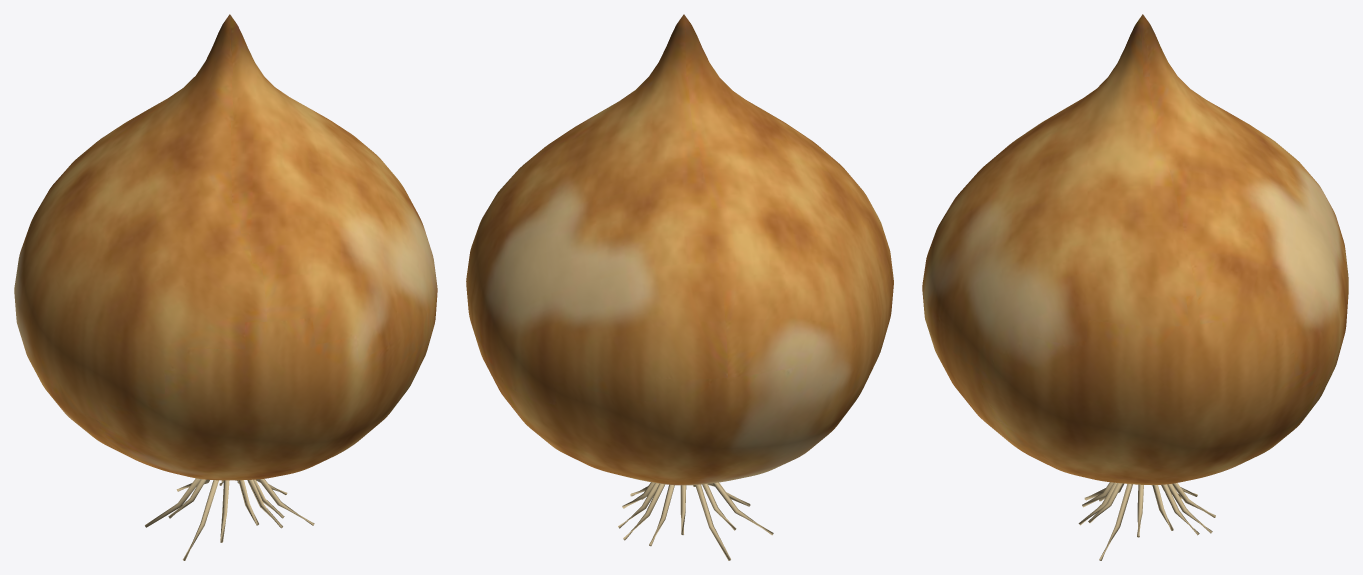
Rendered from oignon.glb.
3 renders of one model, left to right at view 1: azimuth 30°, elevation 25°; view 2: azimuth 150°, elevation 25°; view 3: azimuth 270°, elevation 25°, orthographic.
Parts seen in each view (by area): view 1: entier_peau, moitie_A_peau, moitie_B_peau, entier_extra0, moitie_A_extra0; view 2: entier_peau, moitie_B_peau, moitie_A_peau, moitie_B_extra0, entier_extra0; view 3: entier_peau, moitie_B_peau, moitie_A_peau, entier_extra0, moitie_B_extra0, moitie_A_extra0.
Boxes of the visible parts, x1,y1,x2,y2 form: entier_peau: (14,14,437,480); moitie_A_peau: (52,27,436,480); moitie_B_peau: (14,16,367,445); entier_extra0: (146,479,314,560); moitie_A_extra0: (183,478,313,560); entier_peau: (466,15,893,485); moitie_B_peau: (467,14,870,484); moitie_A_peau: (698,38,893,414); moitie_B_extra0: (618,482,736,560); entier_extra0: (618,483,773,560); entier_peau: (922,14,1348,484); moitie_B_peau: (1135,14,1348,484); moitie_A_peau: (922,27,1135,483); entier_extra0: (1081,482,1215,560); moitie_B_extra0: (1137,483,1215,537); moitie_A_extra0: (1078,482,1132,560).
Bounding box in the file's own units: 0.0807 × 0.1076 × 0.08.
Materials: 3 (2 with a texture image).
